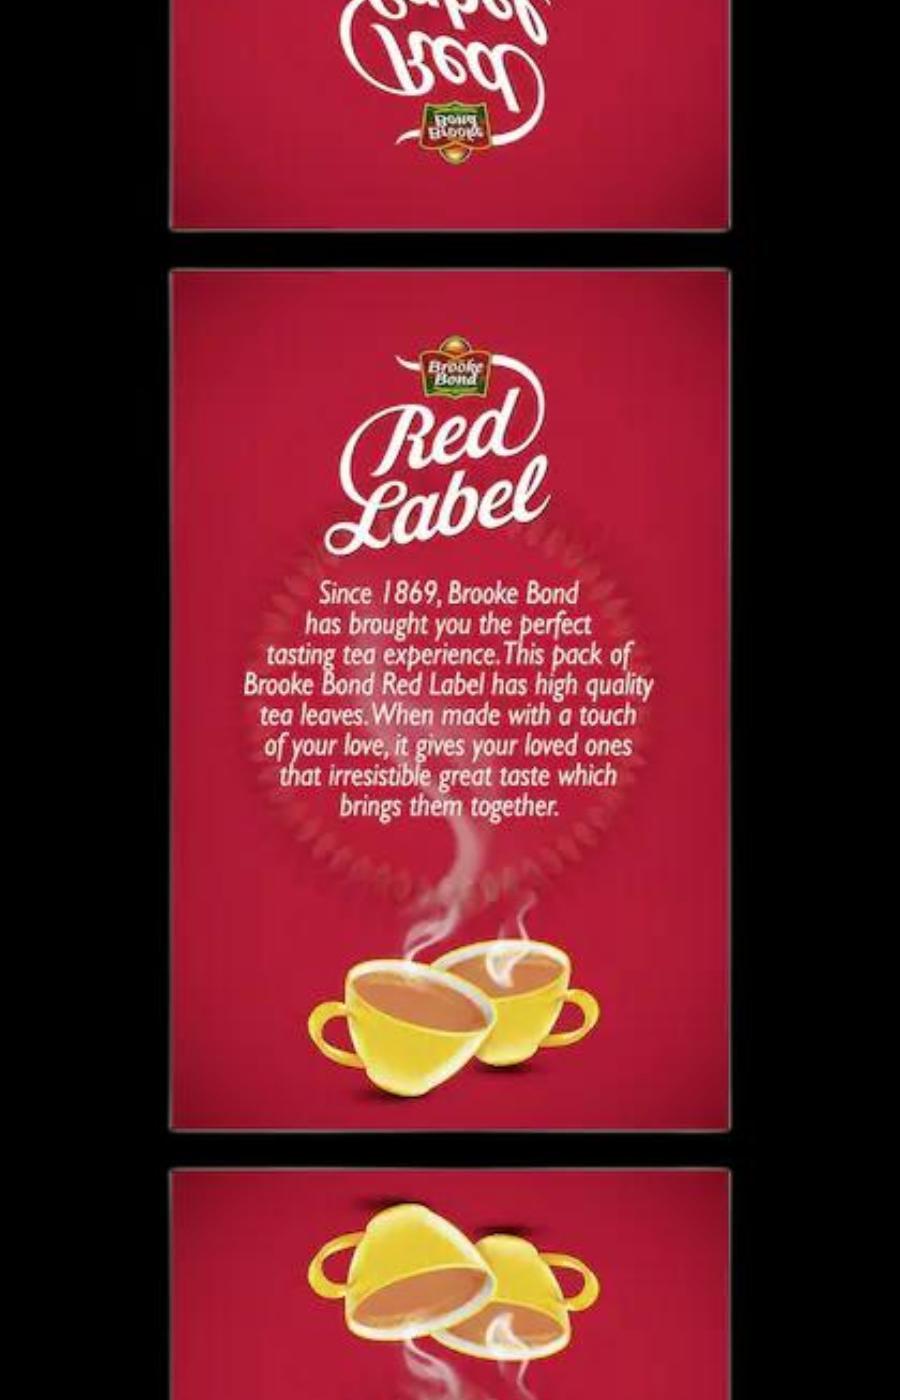Brooke Bond Red Label Leaf Tea 500 g: (154, 254, 748, 1140), (154, 0, 747, 245), (154, 1160, 747, 1400)
